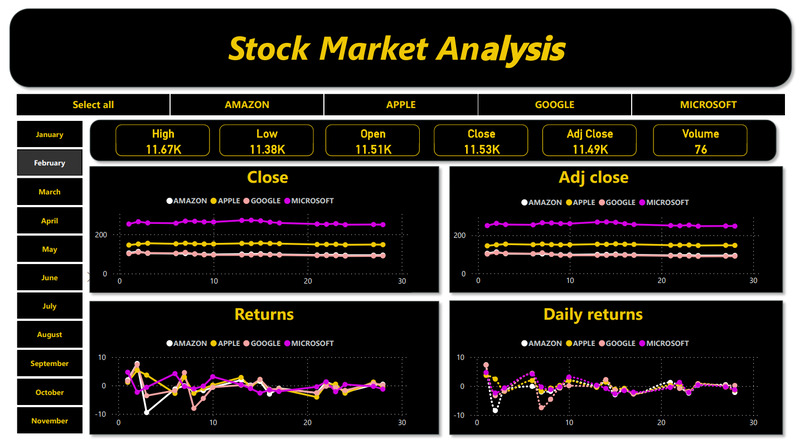

Layout of this report page (visuals, bound fields, positions):
{"tool":"powerbi","page":{"name":"Page 2","canvas":[1280,720],"ordinal":0},"visuals":[{"type":"shape","box":[0,0,1280,145],"z":0},{"type":"slicer","fields":{"Values":["Table1.company_name"]},"box":[0,145,1279,37.5],"z":1000},{"type":"slicer","fields":{"Values":["Table1.Date.Variation.Date Hierarchy.Month"]},"box":[0,189,145,508],"z":2000},{"type":"shape","box":[128.2,254.9,581.8,221.8],"z":3000},{"type":"textbox","box":[171,28.9,921.1,105.4],"z":4000},{"type":"lineChart","fields":{"Y":["Sum(Table1 (2).Close)"],"Series":["Table1 (2).company_name"],"Category":["Table1 (2).Date.Variation.Date Hierarchy.Day"]},"box":[141.1,299.5,515.5,167],"z":5000},{"type":"textbox","box":[270,256,311,46.1],"z":6000},{"type":"shape","box":[709.9,254.9,555.8,221.8],"z":7000},{"type":"textbox","box":[819.4,256,273,46.1],"z":8000},{"type":"shape","box":[709.9,470.9,555.8,234.7],"z":9000},{"type":"textbox","box":[819.4,477,256.3,46.1],"z":10000},{"type":"lineChart","fields":{"Y":["Sum(Table1 (2).Daily Return)"],"Series":["Table1 (2).company_name"],"Category":["Table1 (2).Date.Variation.Date Hierarchy.Day"]},"box":[720,529.9,504,165.6],"z":11000},{"type":"lineChart","fields":{"Y":["Sum(Table1 (2).Adj Close)"],"Series":["Table1 (2).company_name"],"Category":["Table1 (2).Date.Variation.Date Hierarchy.Day"]},"box":[720,302.4,504,164.2],"z":12000},{"type":"shape","box":[130,180,1125,84],"z":13000},{"type":"card","title":"High","fields":{"Values":["Sum(Table1 (2).High)"]},"box":[180,196,152,51],"z":14000},{"type":"shape","box":[128.2,472.3,581.8,233.3],"z":15000},{"type":"textbox","box":[270.7,477,296.6,46.1],"z":16000},{"type":"lineChart","fields":{"Y":["Sum(Table1 (2).returns)"],"Series":["Table1 (2).company_name"],"Category":["Table1 (2).Date.Variation.Date Hierarchy.Day"]},"box":[141.1,529.9,515.5,165.6],"z":17000},{"type":"card","title":"Low","fields":{"Values":["Sum(Table1 (2).Low)"]},"box":[347,196,152,51],"z":18000},{"type":"card","title":"Open","fields":{"Values":["Sum(Table1 (2).Open)"]},"box":[518.4,196,152,51],"z":19000},{"type":"card","title":"Close","fields":{"Values":["Sum(Table1 (2).Close)"]},"box":[694.1,196,152,51],"z":20000},{"type":"card","title":"Adj Close","fields":{"Values":["Sum(Table1 (2).Adj Close)"]},"box":[868.3,196,152,51],"z":21000},{"type":"card","title":"Volume","fields":{"Values":["CountNonNull(Table1 (2).Volume)"]},"box":[1046.9,196,152,51],"z":22000}]}

Visuals, with their boxes in screenshot pixels (x1, y1, x2, y2), scaled from the page's 1280x720 canvas onto the 800x444 screenshot:
shape: crop(0, 0, 799, 89)
slicer - Table1.company_name: crop(0, 89, 799, 113)
slicer - Table1.Date.Variation.Date Hierarchy.Month: crop(0, 117, 91, 430)
shape: crop(80, 157, 444, 294)
textbox: crop(107, 18, 683, 83)
lineChart - Sum(Table1 (2).Close) x Table1 (2).company_name: crop(88, 185, 410, 288)
textbox: crop(169, 158, 363, 186)
shape: crop(444, 157, 791, 294)
textbox: crop(512, 158, 683, 186)
shape: crop(444, 290, 791, 435)
textbox: crop(512, 294, 672, 323)
lineChart - Sum(Table1 (2).Daily Return) x Table1 (2).company_name: crop(450, 327, 765, 429)
lineChart - Sum(Table1 (2).Adj Close) x Table1 (2).company_name: crop(450, 186, 765, 288)
shape: crop(81, 111, 784, 163)
"High" card: crop(112, 121, 208, 152)
shape: crop(80, 291, 444, 435)
textbox: crop(169, 294, 355, 323)
lineChart - Sum(Table1 (2).returns) x Table1 (2).company_name: crop(88, 327, 410, 429)
"Low" card: crop(217, 121, 312, 152)
"Open" card: crop(324, 121, 419, 152)
"Close" card: crop(434, 121, 529, 152)
"Adj Close" card: crop(543, 121, 638, 152)
"Volume" card: crop(654, 121, 749, 152)
